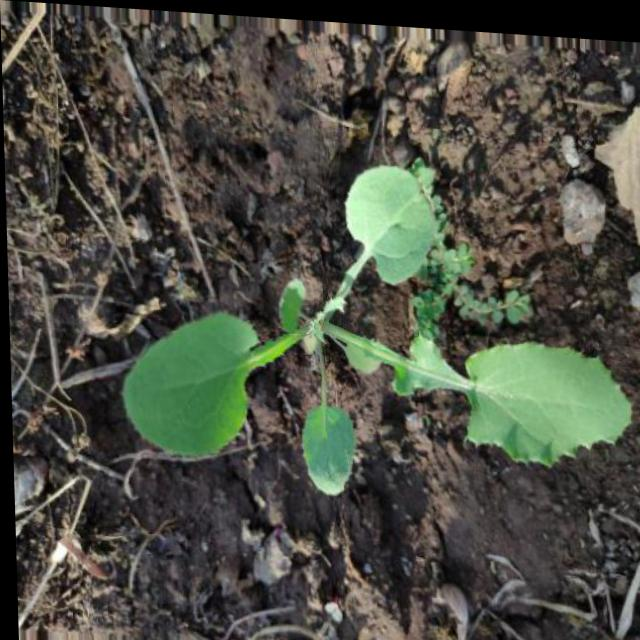weed: (84, 145, 632, 498)
